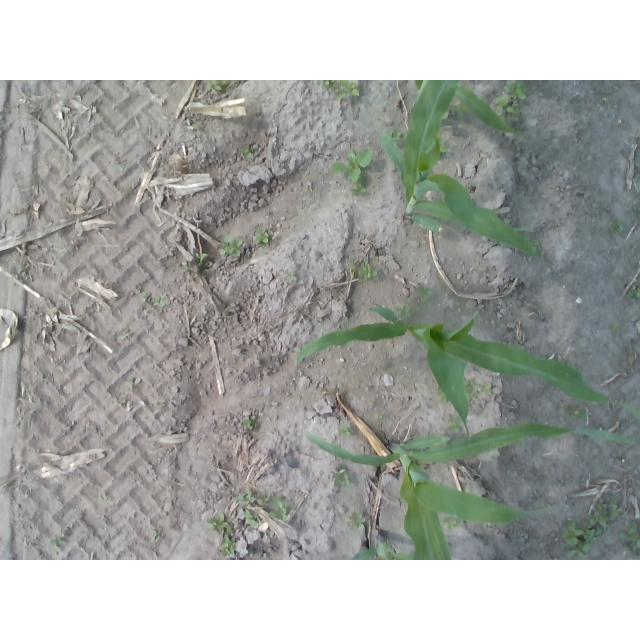Maize: (303, 424, 635, 561), (296, 307, 640, 438), (378, 80, 551, 265), (415, 80, 524, 137), (348, 533, 412, 560)
Weeds: (585, 497, 623, 543), (331, 150, 374, 183), (562, 520, 591, 559), (316, 81, 360, 100), (440, 99, 472, 122), (494, 96, 522, 122), (267, 495, 293, 522), (617, 521, 640, 551), (411, 285, 434, 314), (206, 514, 235, 535), (331, 464, 353, 488), (218, 236, 242, 257), (503, 81, 527, 100), (562, 404, 587, 421), (346, 511, 367, 530), (463, 376, 477, 402), (255, 230, 274, 249), (522, 235, 541, 254), (445, 417, 464, 434), (359, 264, 378, 281), (221, 535, 236, 556), (386, 127, 407, 142), (235, 489, 257, 503), (436, 131, 450, 153), (395, 298, 410, 318), (244, 508, 260, 526), (207, 80, 229, 93), (351, 177, 366, 196), (441, 515, 460, 530), (627, 278, 640, 299), (437, 388, 452, 405), (239, 142, 254, 159), (609, 218, 624, 234), (242, 415, 257, 430), (337, 423, 352, 437), (195, 253, 209, 267), (127, 375, 141, 389), (478, 383, 493, 395), (49, 537, 65, 547), (154, 295, 167, 307), (150, 530, 162, 543), (261, 493, 272, 504), (284, 269, 295, 279), (141, 291, 150, 303), (15, 263, 25, 273), (121, 329, 130, 340), (187, 123, 201, 130), (182, 261, 190, 271), (350, 263, 356, 276), (377, 413, 385, 420)
